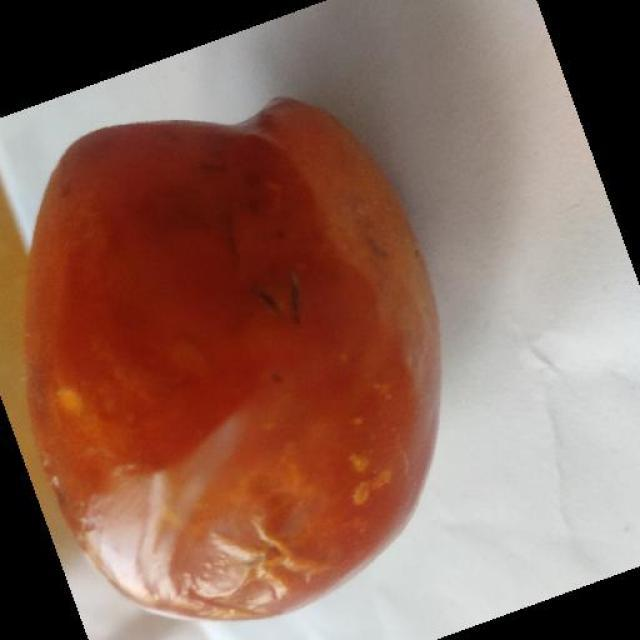Rotten Tomato: (6, 108, 454, 626)
